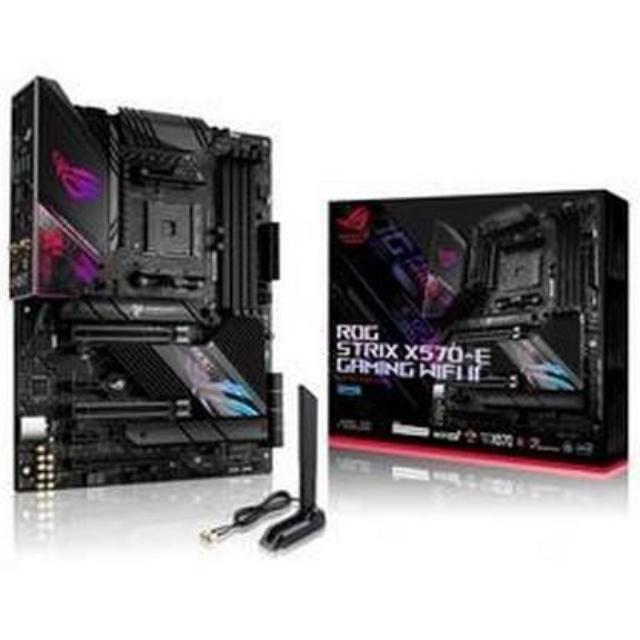Mainboard: (0, 56, 288, 492)
